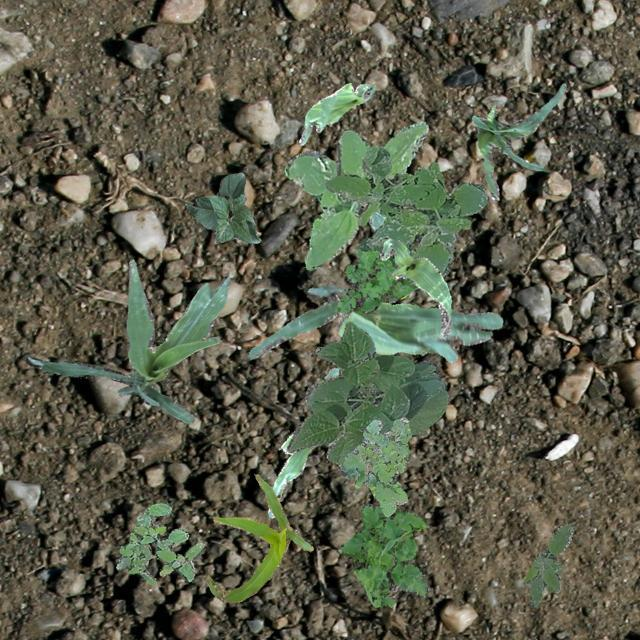crop: (24, 258, 230, 422), (286, 321, 448, 478), (248, 284, 502, 362), (205, 472, 312, 602), (470, 82, 566, 200), (266, 367, 338, 517), (378, 237, 451, 336), (183, 172, 260, 242), (297, 82, 373, 144)
weed: (284, 120, 428, 270), (324, 144, 470, 276), (354, 160, 486, 302), (336, 502, 426, 606), (114, 502, 204, 584), (338, 416, 411, 514), (337, 248, 418, 318), (522, 522, 572, 606)
